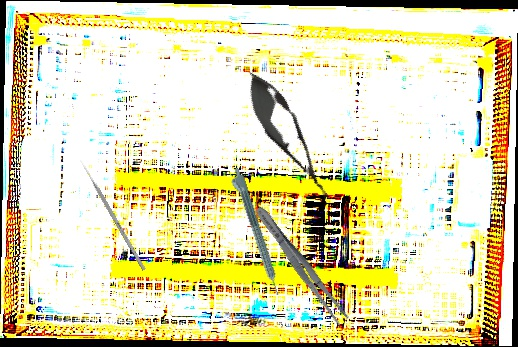Dressing Forceps: (251, 202, 351, 328)
Handpiece: (226, 166, 283, 299)
Micro Scissor: (232, 62, 345, 211)
Pusher: (79, 159, 146, 271)
